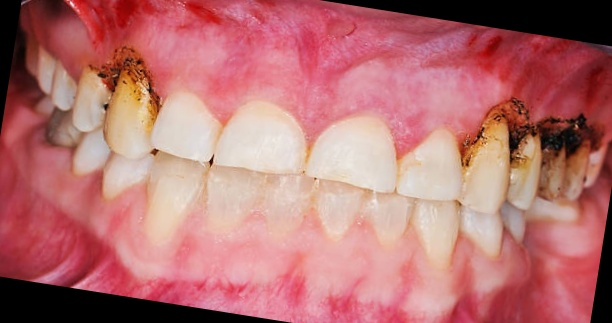Gingivitis: (90, 237, 423, 323), (432, 284, 519, 323)
